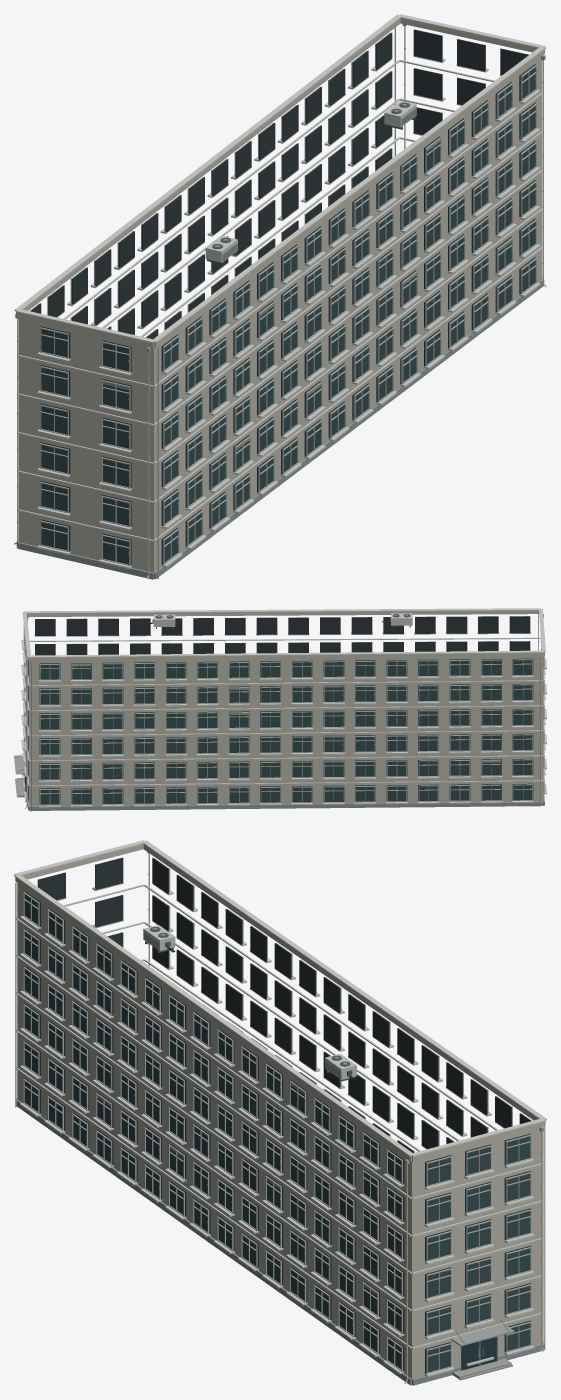
File: osm_way_1173057024.glb
The picture shows the model from 3 angles, top to bottom: view 1: azimuth 30°, elevation 25°; view 2: azimuth 150°, elevation 25°; view 3: azimuth 270°, elevation 25°; orthographic projection. The views are drawn at different scales.
Parts seen in each view (by area): view 1: Windows and facade details | osm_way_1173057024, Architecture | osm_way_1173057024, Roof services | osm_way_1173057024, EXTERIOR::osm_way_1173057024::rainwater and roof service det; view 2: Windows and facade details | osm_way_1173057024, Architecture | osm_way_1173057024, Roof services | osm_way_1173057024, EXTERIOR::osm_way_1173057024::rainwater and roof service det, EXTERIOR::osm_way_1173057024::inferred entry doors canopy an; view 3: Windows and facade details | osm_way_1173057024, Architecture | osm_way_1173057024, Roof services | osm_way_1173057024, EXTERIOR::osm_way_1173057024::rainwater and roof service det, EXTERIOR::osm_way_1173057024::inferred entry doors canopy an.
Part boxes in pixels (<box>): Windows and facade details | osm_way_1173057024: <box>29,27,540,579</box>; Architecture | osm_way_1173057024: <box>16,18,544,579</box>; Roof services | osm_way_1173057024: <box>14,14,546,343</box>; EXTERIOR::osm_way_1173057024::rainwater and roof service det: <box>14,24,546,579</box>; Windows and facade details | osm_way_1173057024: <box>21,614,546,811</box>; Architecture | osm_way_1173057024: <box>24,610,544,810</box>; Roof services | osm_way_1173057024: <box>22,608,545,657</box>; EXTERIOR::osm_way_1173057024::rainwater and roof service det: <box>25,613,543,808</box>; EXTERIOR::osm_way_1173057024::inferred entry doors canopy an: <box>14,754,26,797</box>; Windows and facade details | osm_way_1173057024: <box>15,857,545,1376</box>; Architecture | osm_way_1173057024: <box>15,844,545,1385</box>; Roof services | osm_way_1173057024: <box>14,840,546,1156</box>; EXTERIOR::osm_way_1173057024::rainwater and roof service det: <box>143,852,543,1383</box>; EXTERIOR::osm_way_1173057024::inferred entry doors canopy an: <box>451,1320,514,1380</box>.
Bounding box in the file's own units: 57.98 × 20.58 × 41.34.
